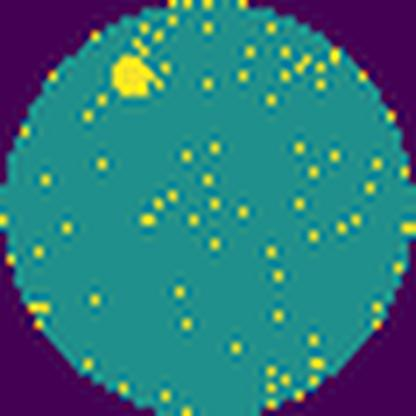Edge-Loc: (112, 53, 164, 99)
